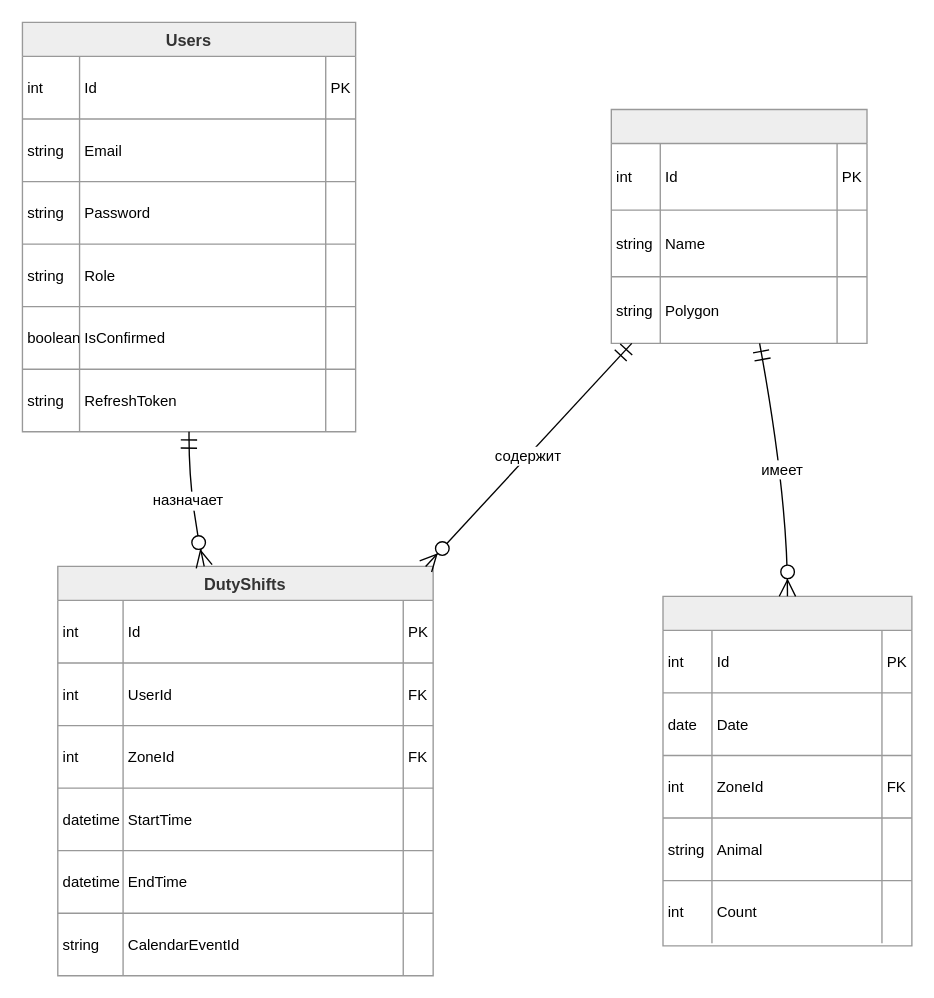
Some shapes in this 934 by 998 pixel diagram are drawn without their labels. Here are the shapes that lost their labels. From the top down, the box of each, then its label:
(610, 108, 867, 343): DutyZones
(662, 595, 912, 946): Tracks
